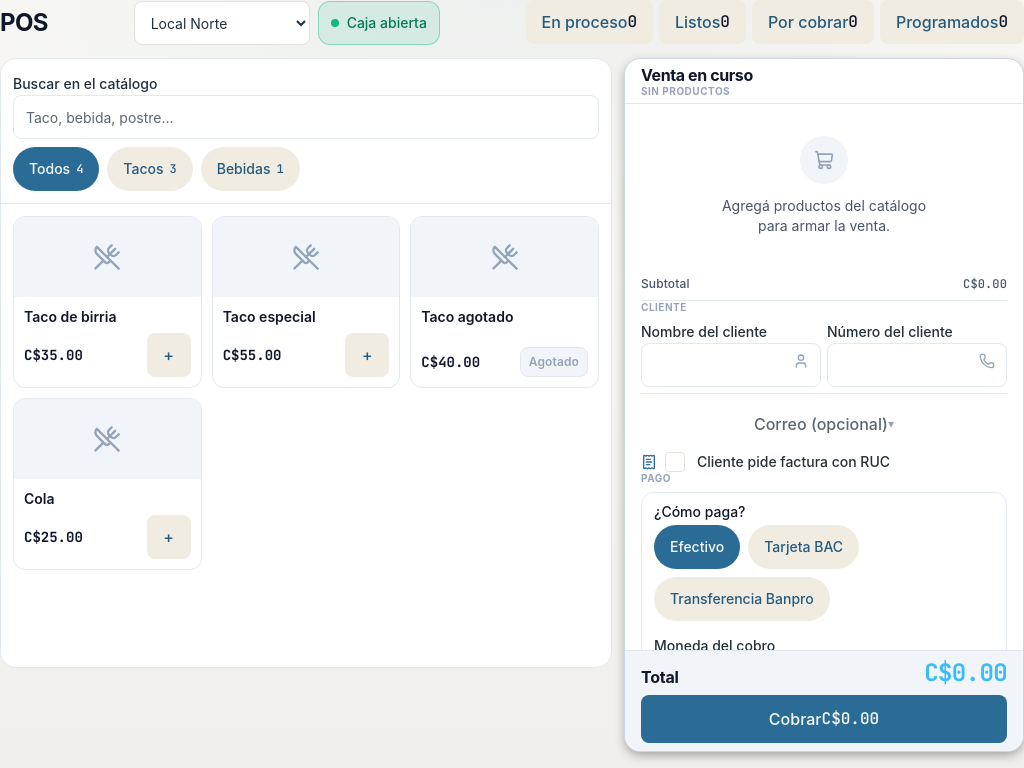
Test: PosClient › un producto con modificadores se elige en el selector antes de entrar a la venta
This screenshot has width=1024, height=768.
Expected: the text "Taco especial" is shown, [223, 308, 316, 325]
Click the button named "Agregar Taco especial a la venta": (367,355) [345, 333, 389, 377]
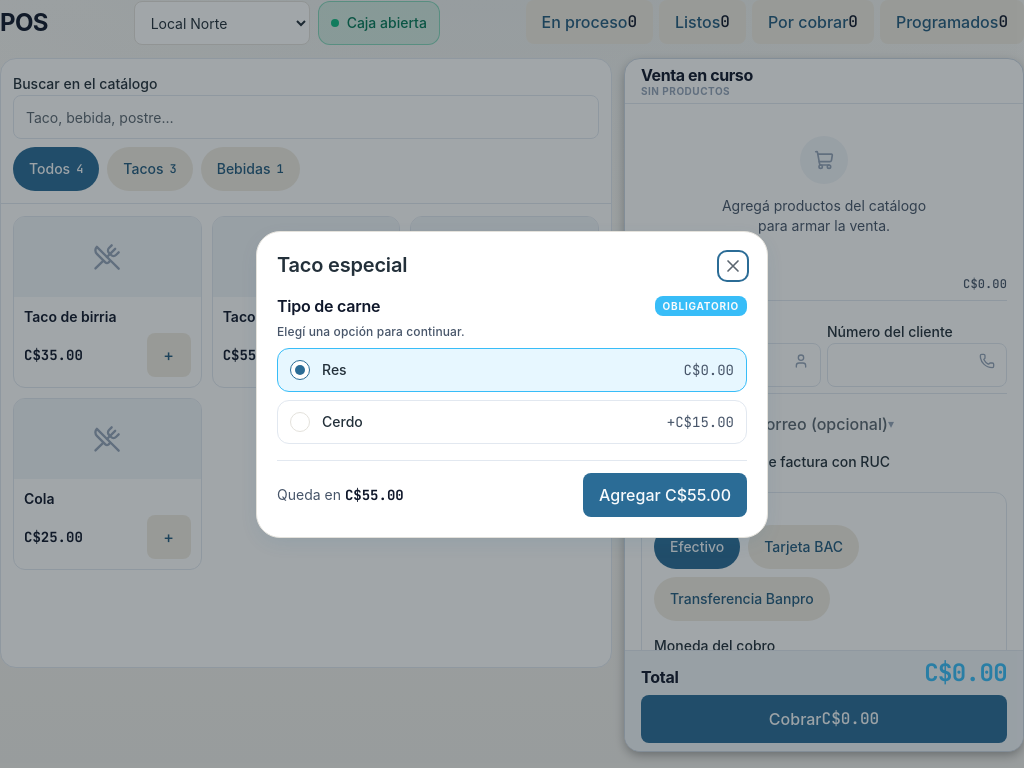
Click the radio button labelled "Cerdo": (300,422) [290, 412, 310, 432]
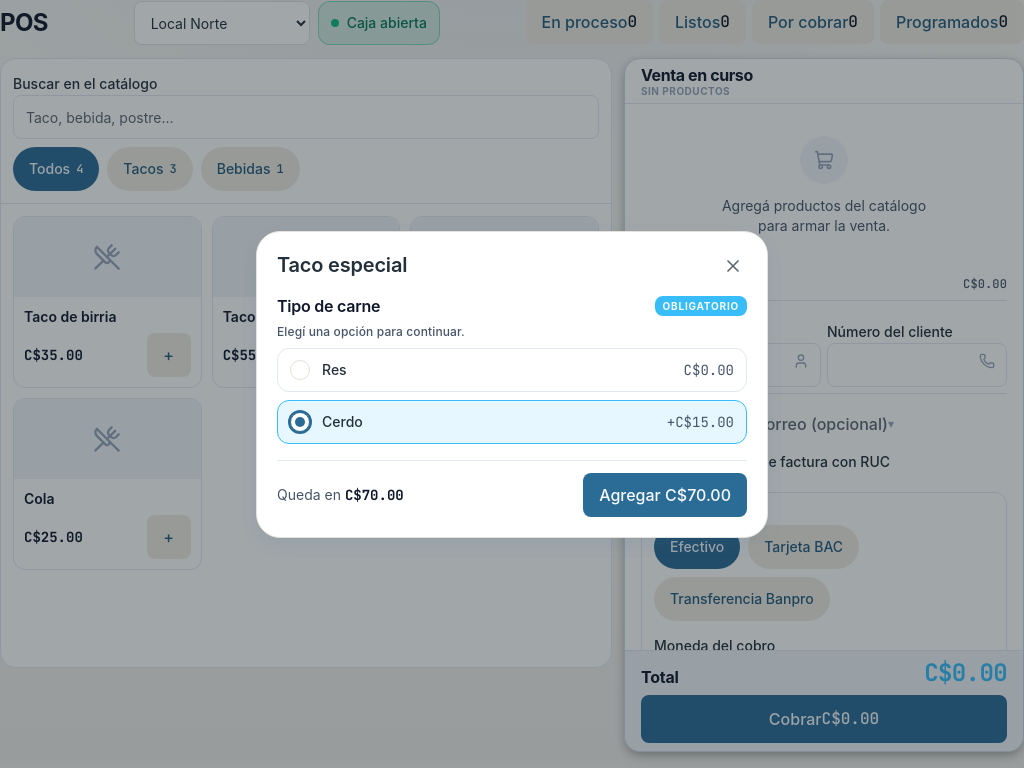
Click the button "Agregar C$70.00": (665,494) [583, 472, 747, 516]
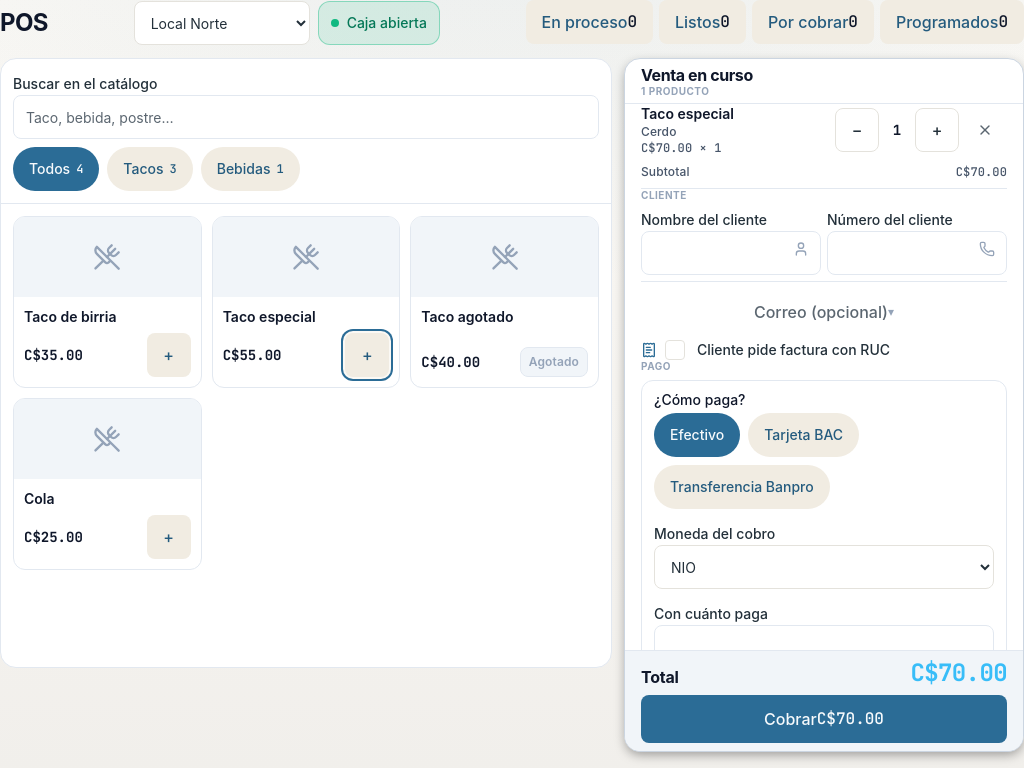
Now the text "Taco especial" below "1 producto" is shown, box [641, 105, 734, 122]
Now the text "Cerdo" is shown, box [641, 124, 676, 139]
Now the text "C$70.00" in the row of "Subtotal" is shown, box [956, 164, 1007, 180]
